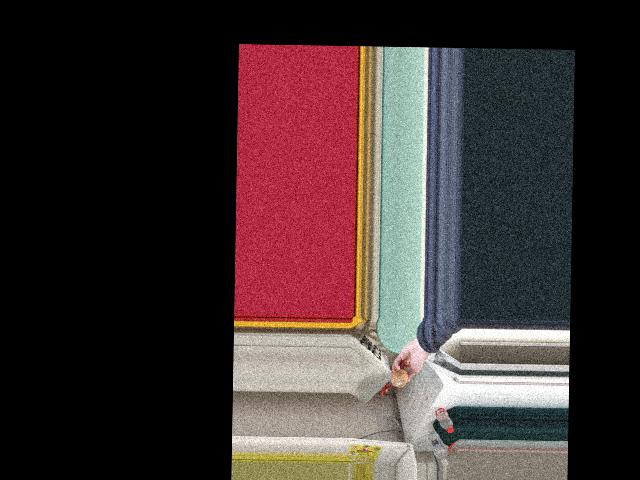sweet_potato: (392, 367, 408, 387)
